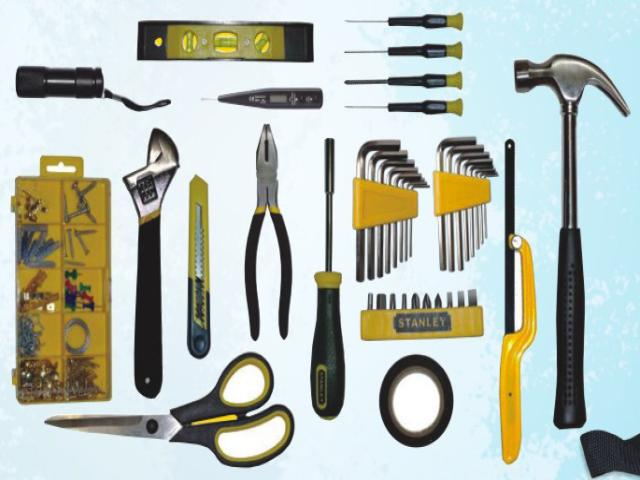Adjustable spanner: (122, 127, 180, 397)
Hammer: (514, 54, 630, 428)
Pliers: (245, 124, 292, 339)
Screwdriver: (310, 137, 345, 418), (344, 41, 462, 60), (344, 71, 462, 90), (344, 98, 463, 116), (345, 12, 463, 30)
Utility knife: (188, 175, 211, 358)
